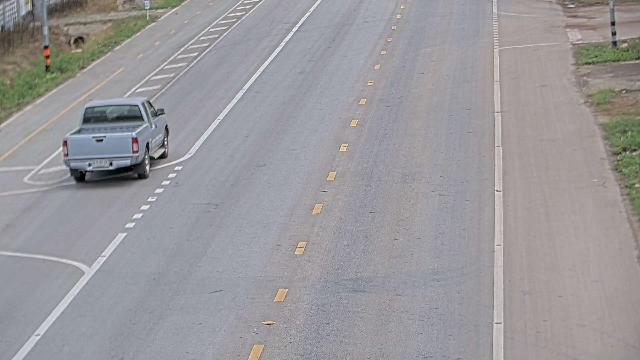pickup-truck: (61, 96, 169, 182)
